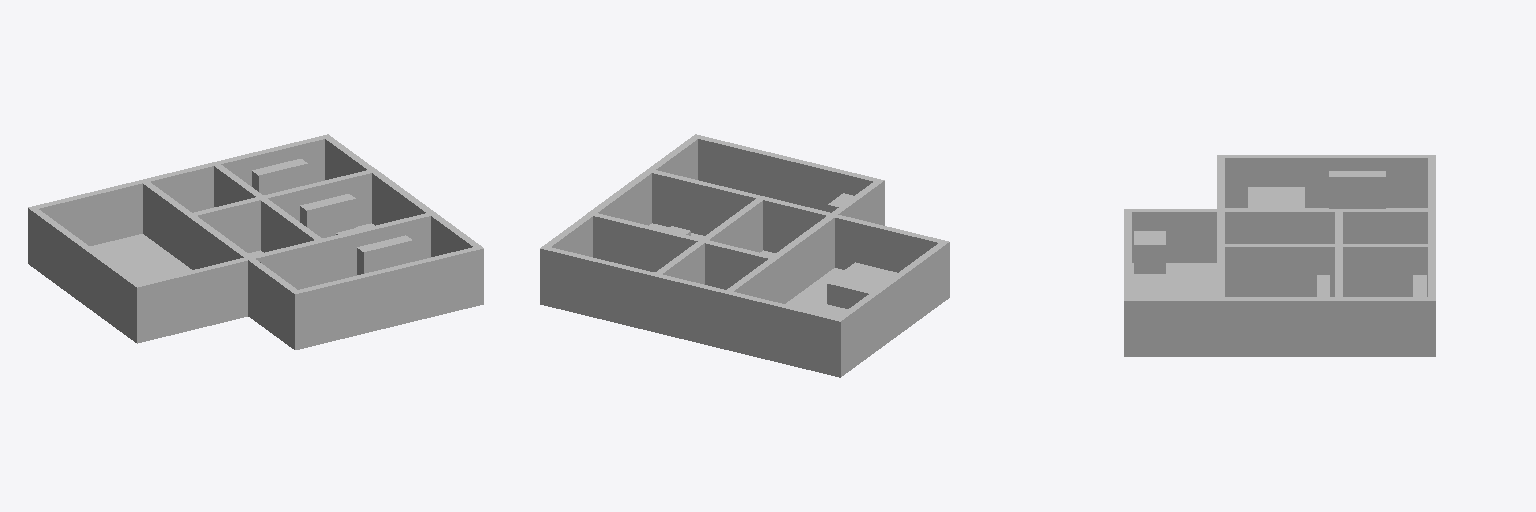
The model's file is home.obj.
The picture shows the model from 3 angles: view 1: azimuth 30°, elevation 25°; view 2: azimuth 150°, elevation 25°; view 3: azimuth 270°, elevation 25°; orthographic projection.
Visible parts, largest first — view 1: Cube.001_Cube.002, Cube, Cube.002_Cube.003, Cube.007_Cube.008, Cube.008_Cube.009, Cube.006_Cube.007; view 2: Cube.002_Cube.003, Cube.001_Cube.002, Cube, Cube.004_Cube.005; view 3: Cube, Cube.001_Cube.002, Cube.002_Cube.003, Cube.005_Cube.006, Cube.009_Cube.010, Cube.004_Cube.005.
Part boxes in pixels (x1,y1,x2,y2): Cube.001_Cube.002: (28, 162, 325, 343); Cube: (190, 169, 483, 349); Cube.002_Cube.003: (139, 134, 434, 282); Cube.007_Cube.008: (300, 194, 355, 237); Cube.008_Cube.009: (357, 235, 412, 274); Cube.006_Cube.007: (252, 159, 307, 194); Cube.002_Cube.003: (540, 170, 837, 349); Cube.001_Cube.002: (653, 196, 949, 377); Cube: (587, 134, 884, 289); Cube.004_Cube.005: (827, 262, 896, 308); Cube: (1124, 209, 1342, 356); Cube.001_Cube.002: (1217, 155, 1435, 296); Cube.002_Cube.003: (1217, 209, 1435, 356); Cube.005_Cube.006: (1329, 171, 1385, 208); Cube.009_Cube.010: (1134, 231, 1165, 273); Cube.004_Cube.005: (1248, 187, 1304, 208).
Bounding box in the file's own units: 11.24 × 2 × 10.09.